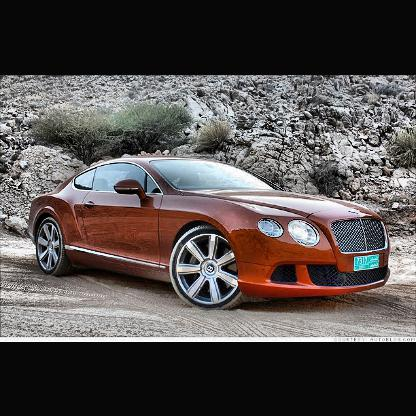Bentley Continental GT Coupe 2012: (29, 156, 392, 312)
